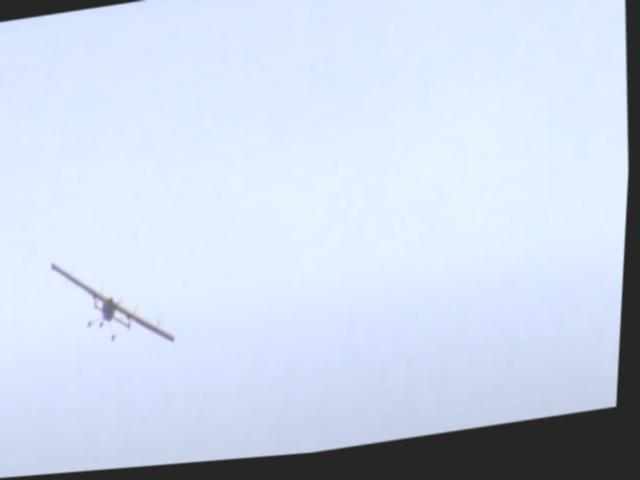iha: (48, 247, 182, 362)
